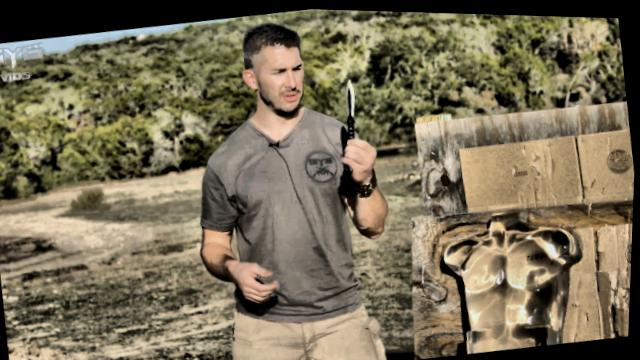knife: (328, 71, 383, 173)
